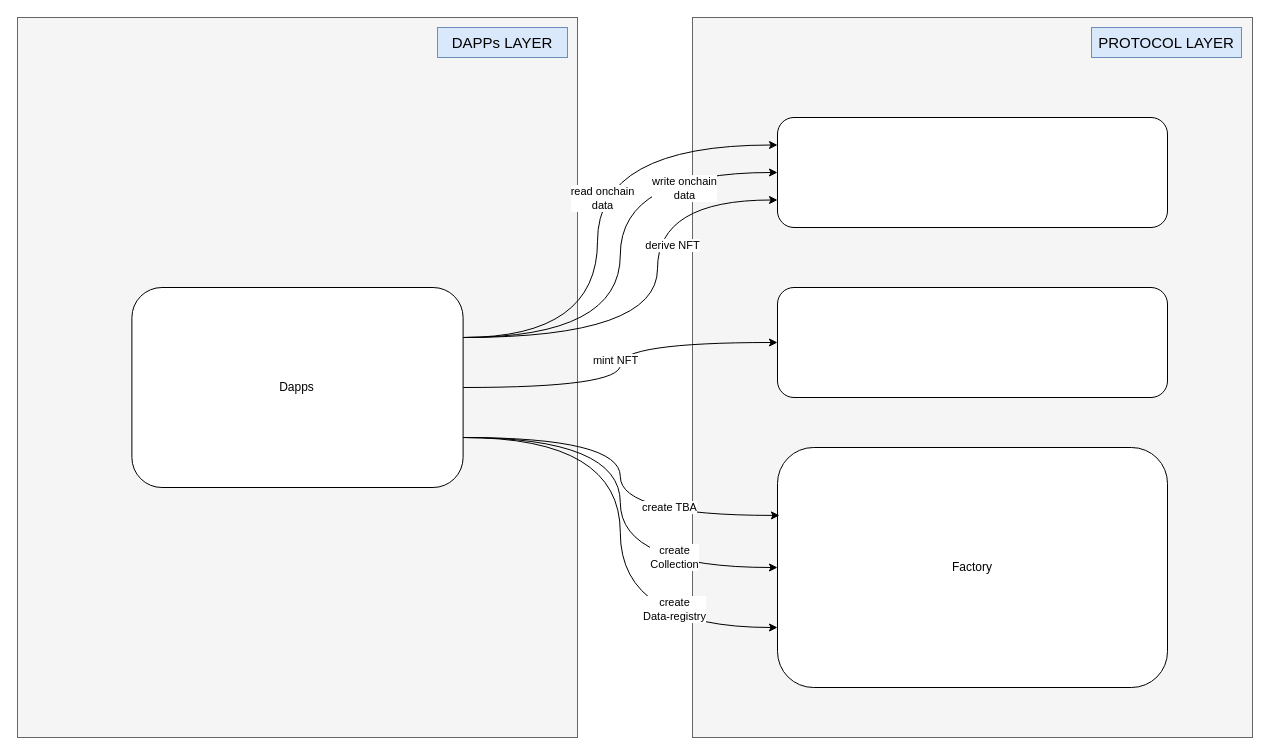
Some shapes in this 1270 by 755 pixel diagram are drawn without their labels. The shapes that lost their labels are listed below. From the top down, each one's centre as x and y in pixels, then its label:
the point at 972,172: Data Registry
the point at 972,342: Collection
